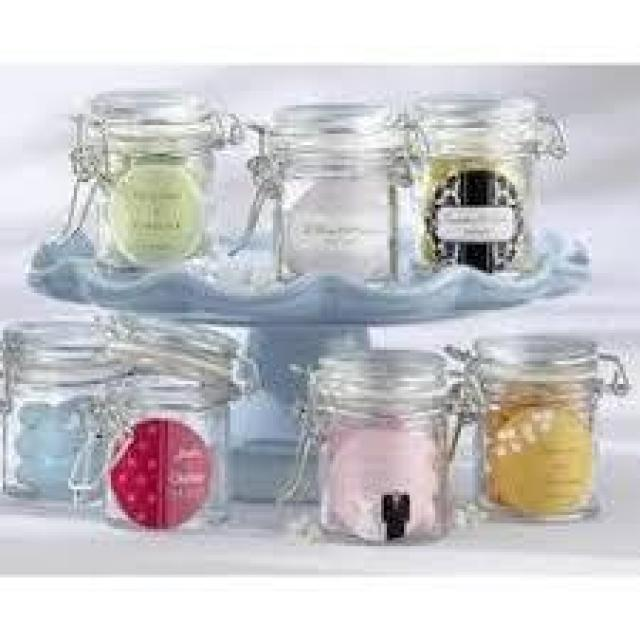Glass: (62, 308, 262, 542), (273, 338, 484, 544), (224, 101, 431, 286), (46, 86, 244, 278), (401, 90, 570, 288), (462, 331, 632, 526), (2, 318, 128, 518)
